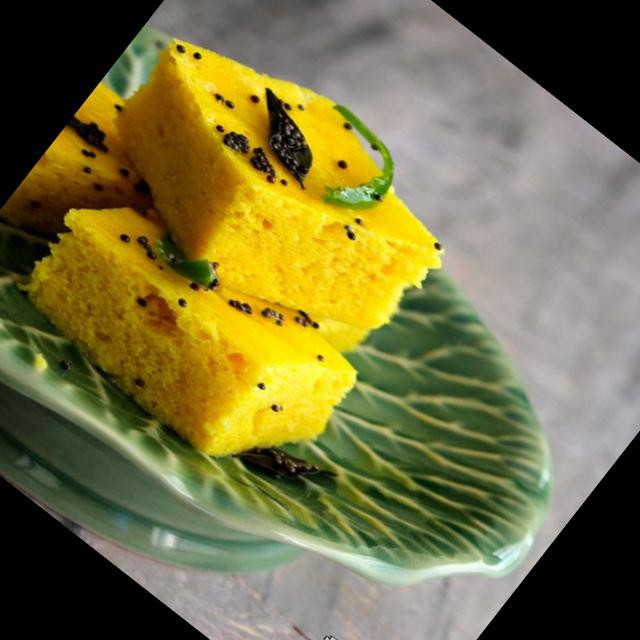dhokla: (0, 0, 474, 494)
